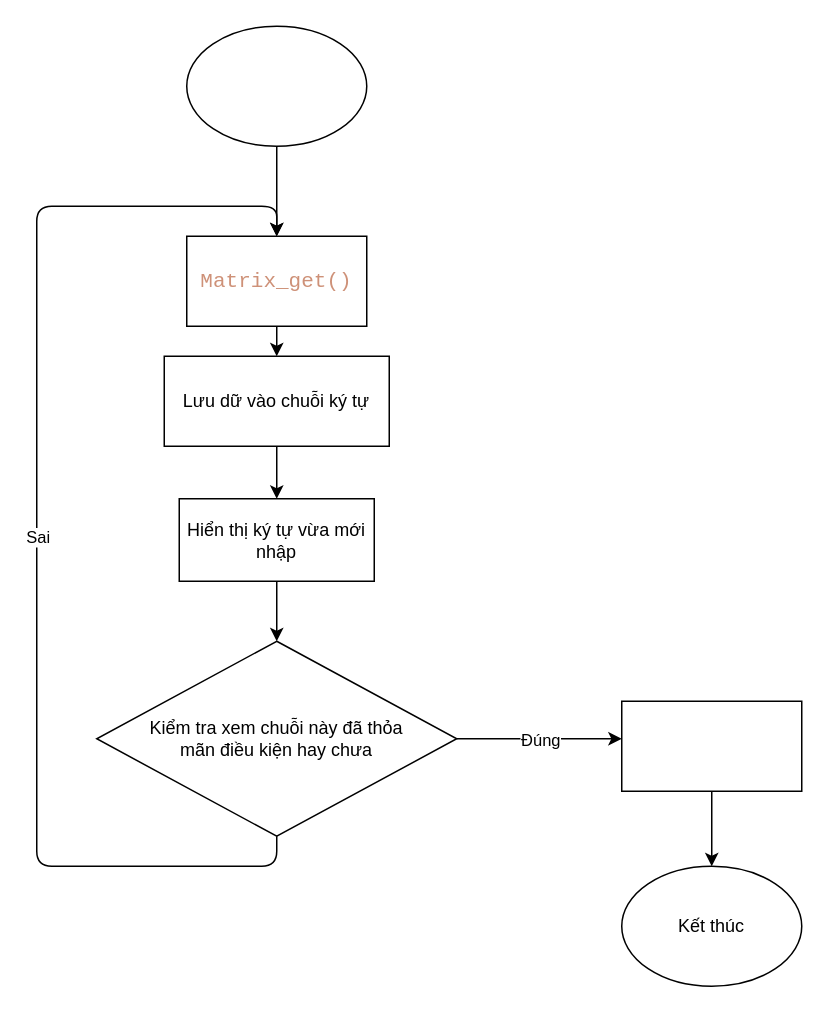
Some shapes in this 828 by 1013 pixel diagram are drawn without their labels. The shapes that lost their labels are listed below. From the top down, each one's box as (x1, y1, x2, y2) in pixels, then its label:
(185, 25, 367, 146): Bắt đầu
(620, 700, 802, 791): Chuyển từ kiểu dữ liệu từ string thành interger và trả về
